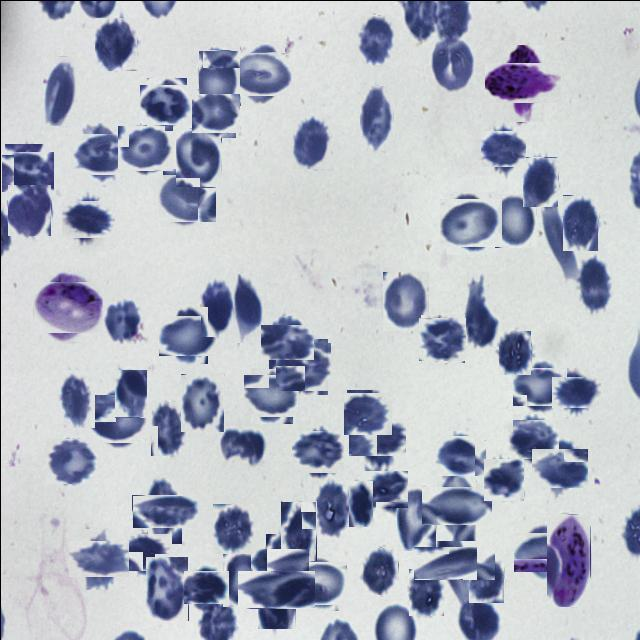gametocyte: (546, 513, 590, 606), (493, 54, 552, 112)
red blood cell: (424, 534, 482, 592), (247, 560, 304, 618), (89, 390, 145, 446), (442, 195, 498, 250), (234, 46, 289, 100), (428, 478, 483, 532), (144, 555, 188, 620), (159, 170, 212, 223), (382, 271, 428, 330), (175, 127, 221, 186), (75, 127, 127, 179), (277, 340, 329, 392), (396, 485, 436, 550), (429, 33, 473, 91), (180, 373, 224, 431), (119, 123, 170, 173), (46, 436, 96, 486), (138, 486, 188, 536), (162, 310, 211, 359), (247, 371, 296, 420), (296, 558, 344, 608), (42, 55, 76, 125), (492, 193, 536, 247), (198, 49, 240, 105), (0, 147, 49, 195), (94, 16, 137, 70), (293, 428, 341, 476), (535, 444, 583, 492), (465, 278, 497, 350), (74, 534, 122, 582), (7, 183, 51, 235), (142, 81, 190, 128), (359, 84, 393, 150), (516, 528, 564, 574), (312, 479, 349, 538), (516, 363, 562, 410), (280, 500, 316, 560), (57, 369, 94, 427), (222, 550, 260, 606), (509, 416, 555, 462), (354, 415, 400, 461), (419, 315, 465, 361), (64, 196, 110, 242), (150, 400, 188, 455), (344, 391, 390, 436), (232, 273, 262, 342), (292, 114, 330, 168), (212, 503, 253, 553), (562, 194, 598, 250), (438, 433, 482, 478), (200, 276, 233, 336), (576, 258, 612, 312), (124, 529, 168, 573), (194, 90, 238, 134), (264, 320, 308, 364), (258, 540, 302, 584), (357, 14, 395, 64), (482, 458, 524, 501), (522, 156, 558, 206), (364, 468, 406, 510), (362, 546, 398, 594), (468, 554, 504, 602), (482, 128, 524, 168), (408, 568, 443, 615), (186, 566, 226, 606), (555, 372, 595, 412), (114, 370, 146, 418), (103, 299, 140, 340), (498, 329, 531, 374), (348, 480, 372, 526)
trophozoite: (36, 276, 98, 337)
